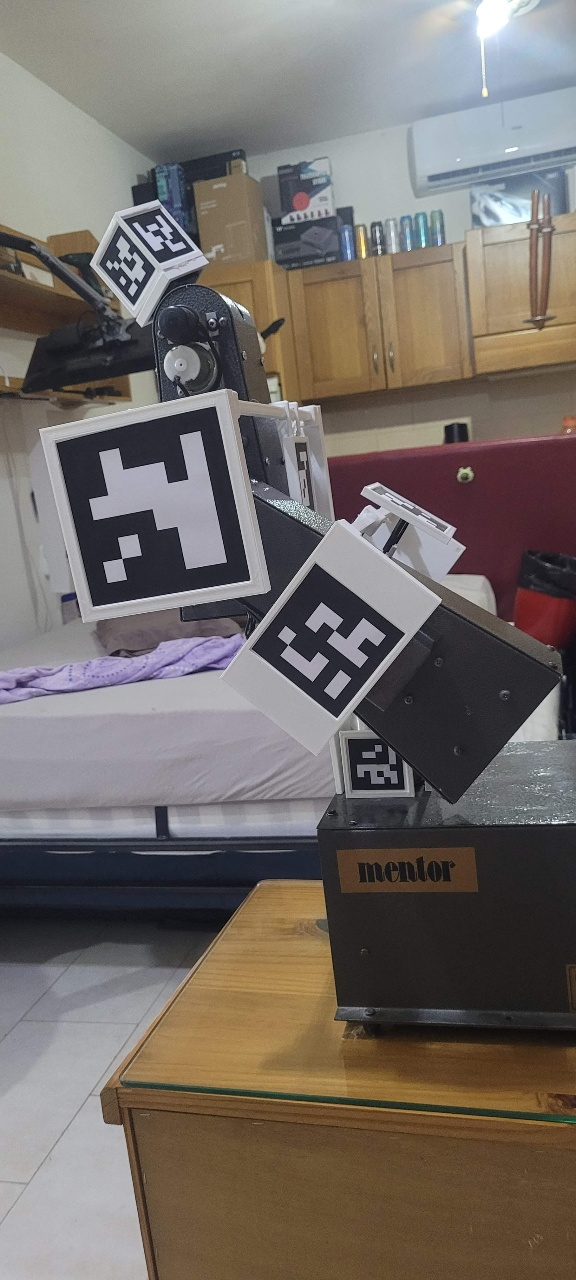Robot: (91, 364, 526, 1118)
